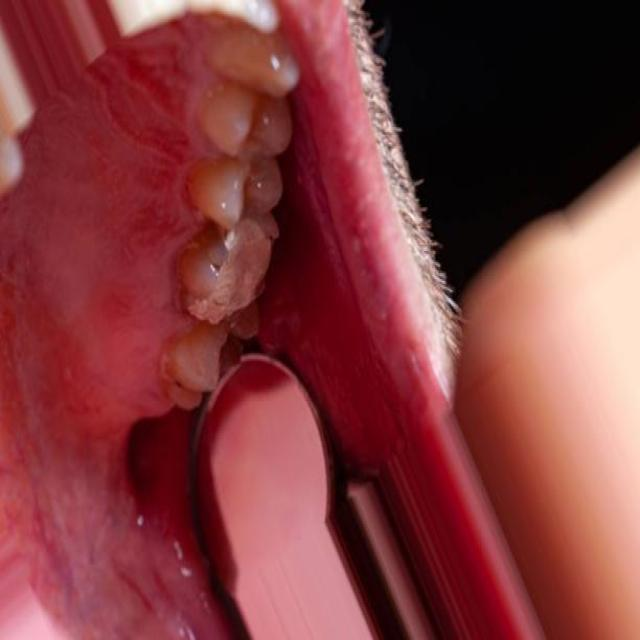caries: (212, 227, 277, 321)
